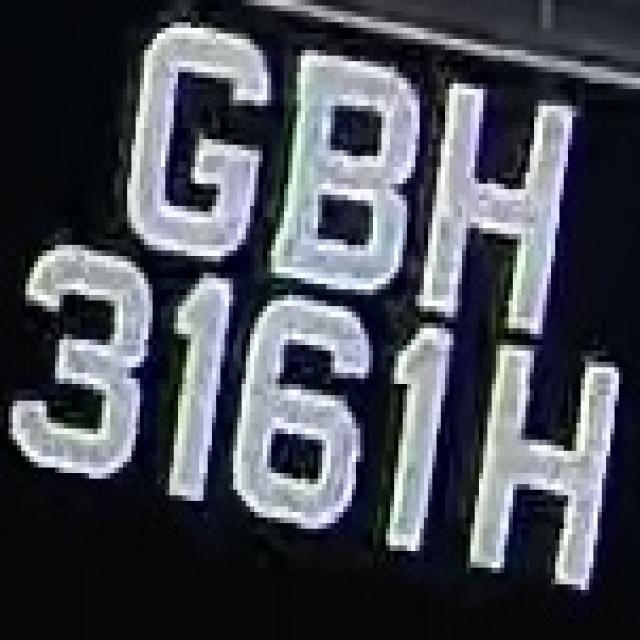1: (157, 272, 229, 528), (369, 317, 390, 323)
3: (4, 211, 153, 501)
6: (220, 278, 382, 546)
B: (267, 33, 428, 306)
G: (123, 6, 263, 278)
H: (454, 317, 632, 618), (415, 78, 581, 334)
